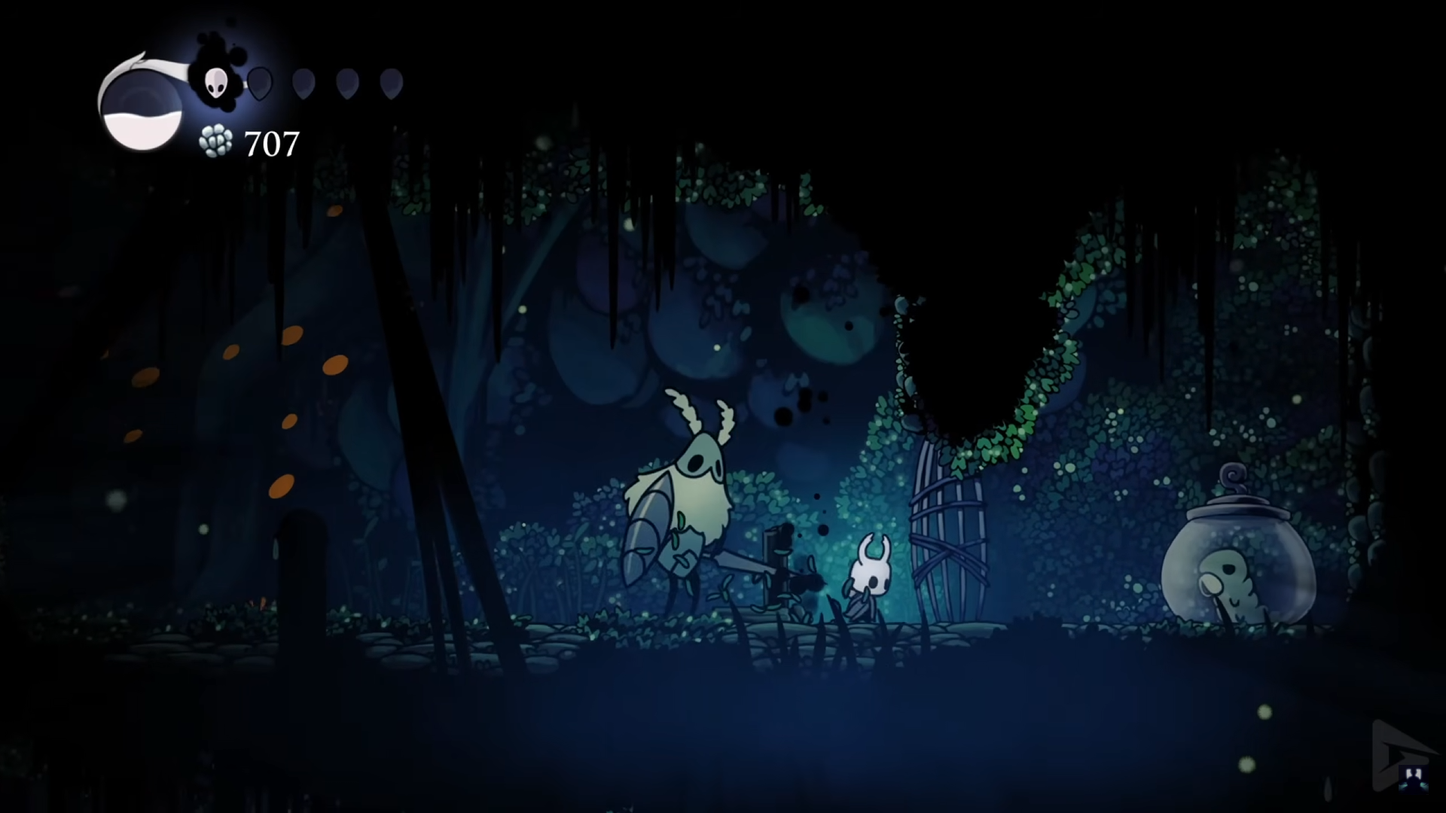HK: (844, 529, 895, 621)
